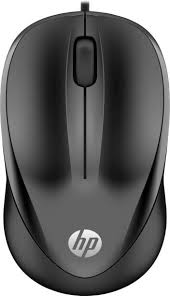hp-mouse-X1000: (2, 11, 170, 290)
